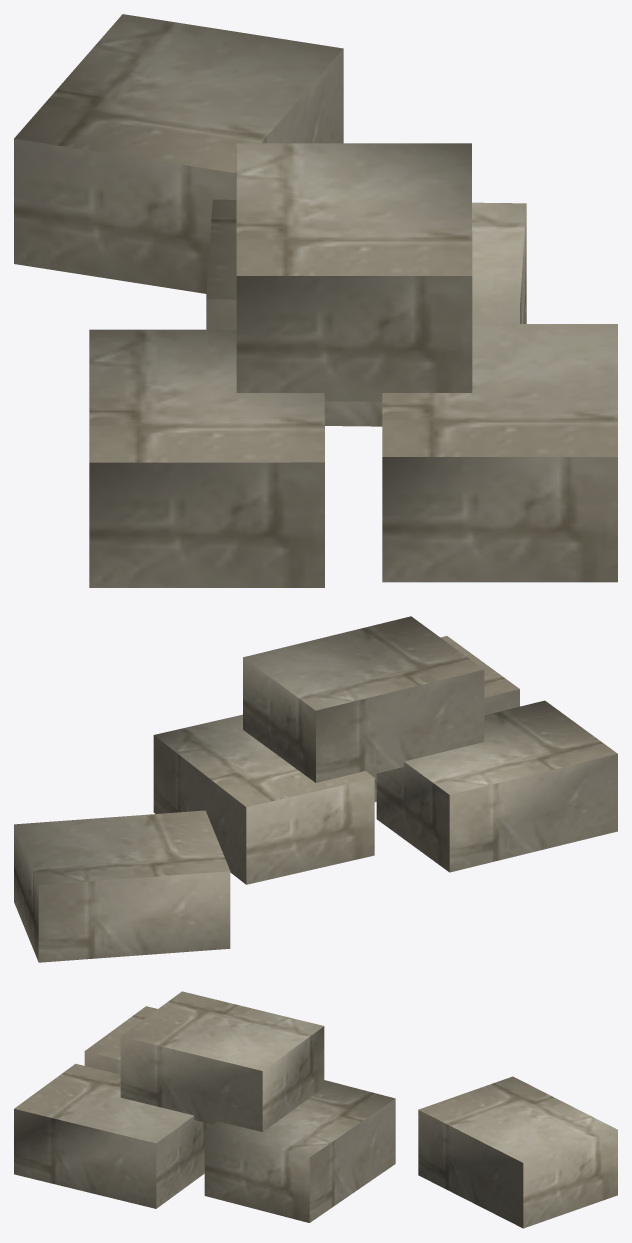
The model's file is City_bujian_12.fbx.
3 views of the same model, one above another, from view 1: azimuth 30°, elevation 25°; view 2: azimuth 150°, elevation 25°; view 3: azimuth 270°, elevation 25° (orthographic). The views are drawn at different scales.
Parts seen in each view (by area): view 1: polySurface3611; view 2: polySurface3611; view 3: polySurface3611.
Boxes of the visible parts, x1=… form: polySurface3611: x1=14, y1=14, x2=617, y2=587; polySurface3611: x1=14, y1=616, x2=617, y2=962; polySurface3611: x1=14, y1=991, x2=617, y2=1228.
Size of the model in its own units: 2.45 by 0.9221 by 3.98.
